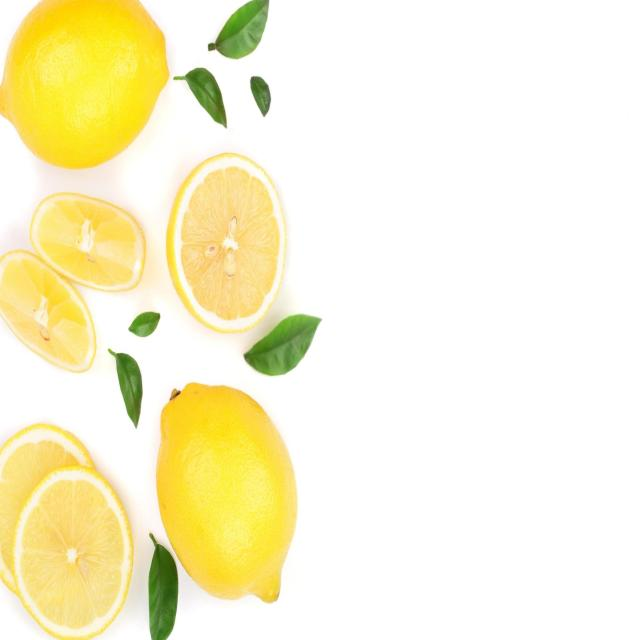lemon: (0, 1, 182, 204), (152, 377, 301, 607), (162, 149, 289, 340)
